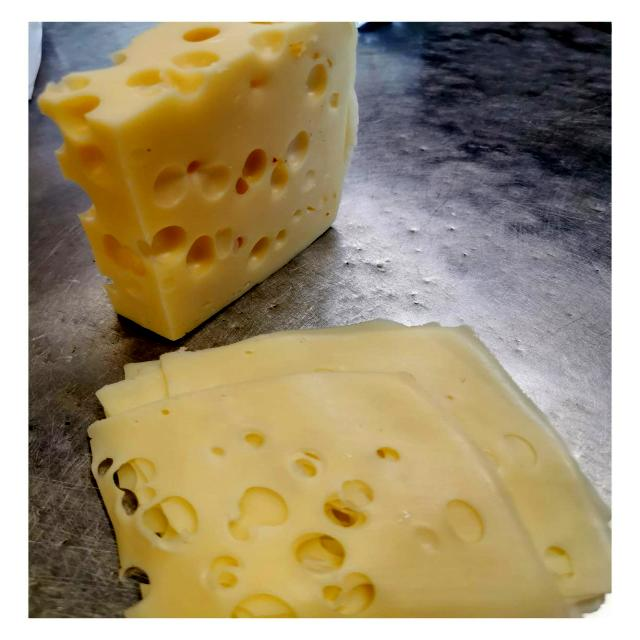cheese: (92, 333, 608, 618), (36, 22, 383, 340)
